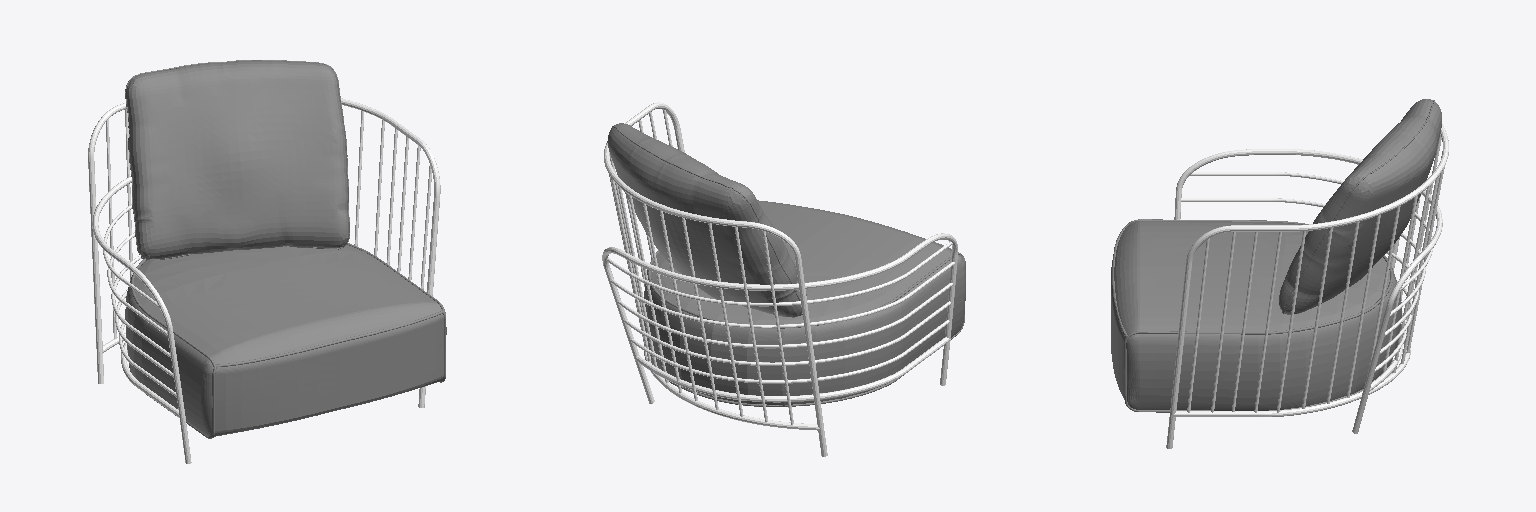
The picture shows the model from 3 angles: view 1: azimuth 30°, elevation 25°; view 2: azimuth 150°, elevation 25°; view 3: azimuth 270°, elevation 25°; orthographic projection.
Parts seen in each view (by area): view 1: 3dstylish00, 3dstylish06, 3dstylish04, 3dstylish05, 3dstylish02, 3dstylish03, 3dstylish01, 3dstylish07; view 2: 3dstylish00, 3dstylish06, 3dstylish03, 3dstylish05, 3dstylish02, 3dstylish04, 3dstylish01; view 3: 3dstylish00, 3dstylish06, 3dstylish05, 3dstylish04, 3dstylish02, 3dstylish03, 3dstylish01.
Part boxes in pixels (bbox=[...]): 3dstylish00: bbox=[125, 245, 446, 436]; 3dstylish06: bbox=[126, 60, 349, 258]; 3dstylish04: bbox=[88, 98, 440, 407]; 3dstylish05: bbox=[106, 109, 431, 338]; 3dstylish02: bbox=[92, 176, 191, 463]; 3dstylish03: bbox=[103, 204, 176, 397]; 3dstylish01: bbox=[129, 243, 445, 438]; 3dstylish07: bbox=[125, 60, 349, 259]; 3dstylish00: bbox=[644, 200, 965, 405]; 3dstylish06: bbox=[607, 123, 806, 317]; 3dstylish03: bbox=[606, 242, 954, 383]; 3dstylish05: bbox=[609, 110, 793, 424]; 3dstylish02: bbox=[602, 233, 957, 403]; 3dstylish04: bbox=[604, 102, 827, 456]; 3dstylish01: bbox=[648, 242, 965, 406]; 3dstylish00: bbox=[1111, 221, 1401, 410]; 3dstylish06: bbox=[1279, 99, 1441, 314]; 3dstylish05: bbox=[1187, 135, 1444, 412]; 3dstylish04: bbox=[1166, 124, 1448, 448]; 3dstylish02: bbox=[1174, 149, 1442, 433]; 3dstylish03: bbox=[1181, 172, 1432, 371]; 3dstylish01: bbox=[1112, 219, 1392, 412].
Size of the model in its own units: 40.94 by 37.75 by 41.78.